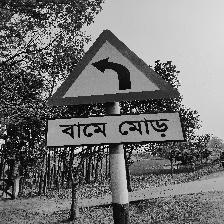Left-Turn: (44, 30, 186, 148)
